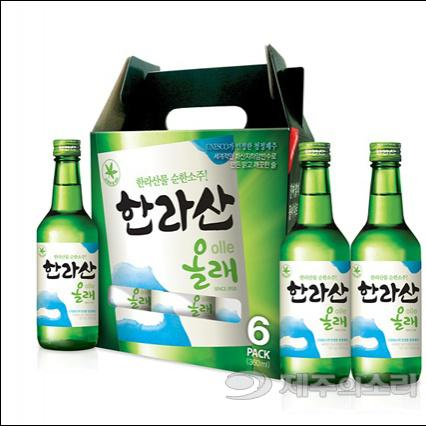soju: (271, 140, 422, 390), (34, 136, 103, 353)
